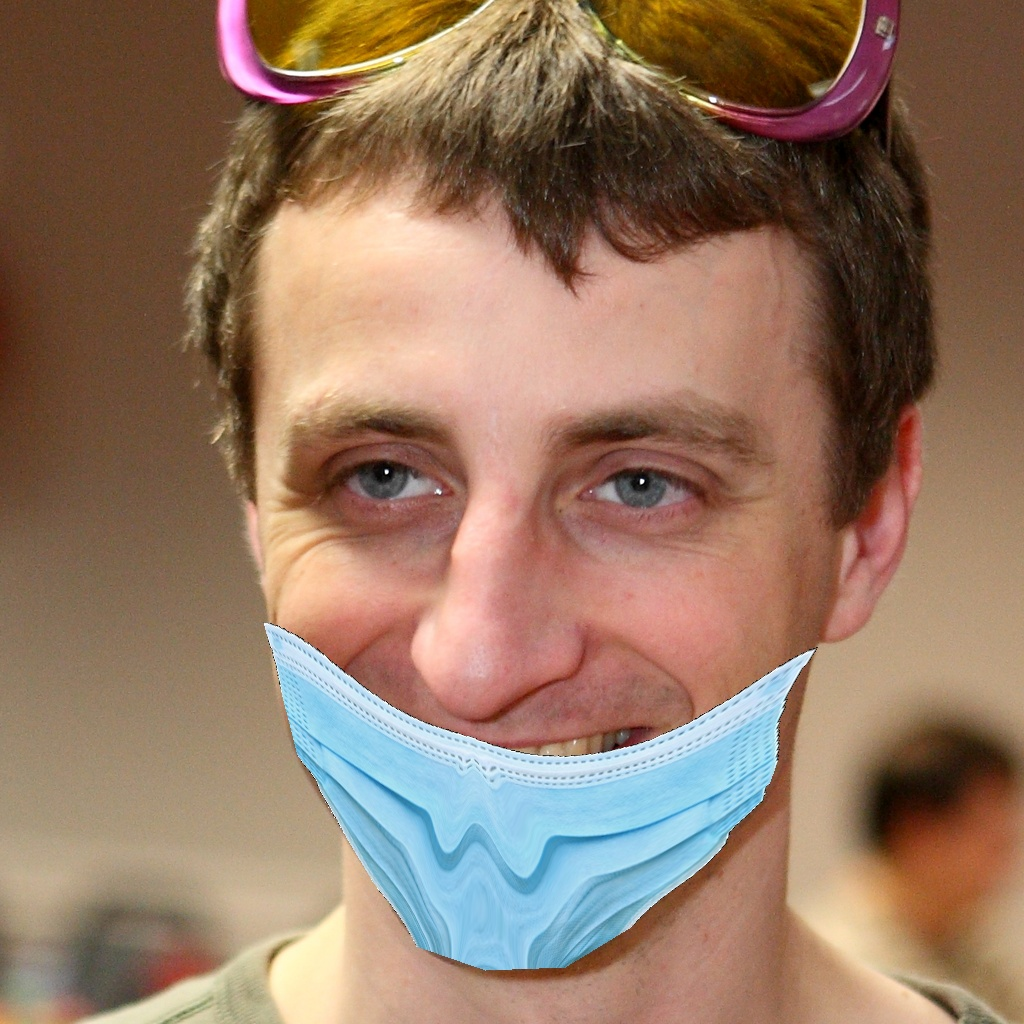mascarilla_mal_puesta: (234, 368, 867, 965)
